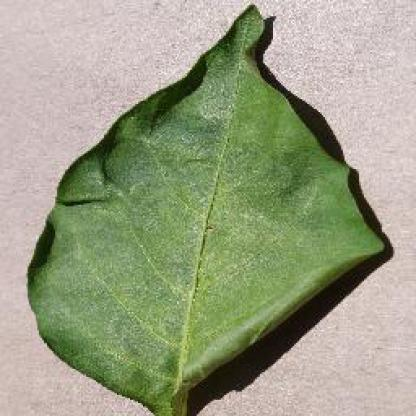good leaf: (91, 108, 326, 346)
